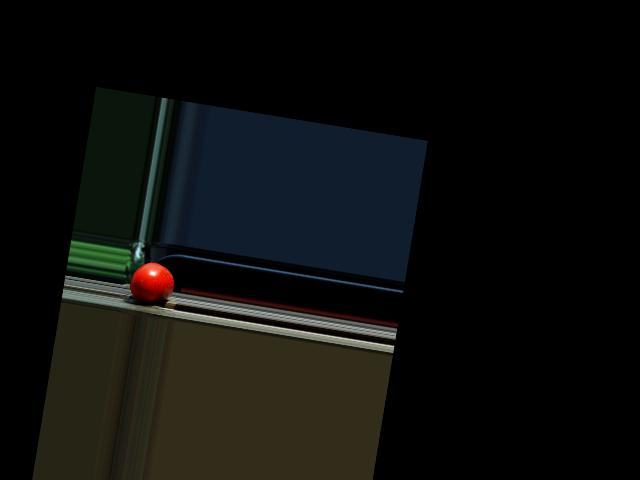tomato: (127, 259, 177, 305)
